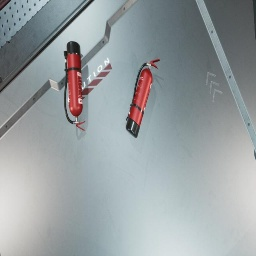FireExtinguisher ]: (126, 59, 160, 138), (64, 41, 85, 131), (148, 64, 150, 66)
